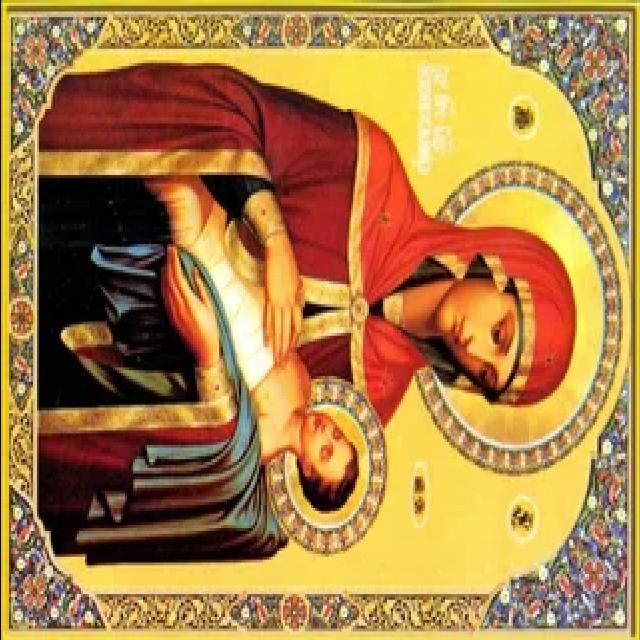mother of god: (41, 42, 578, 570)
